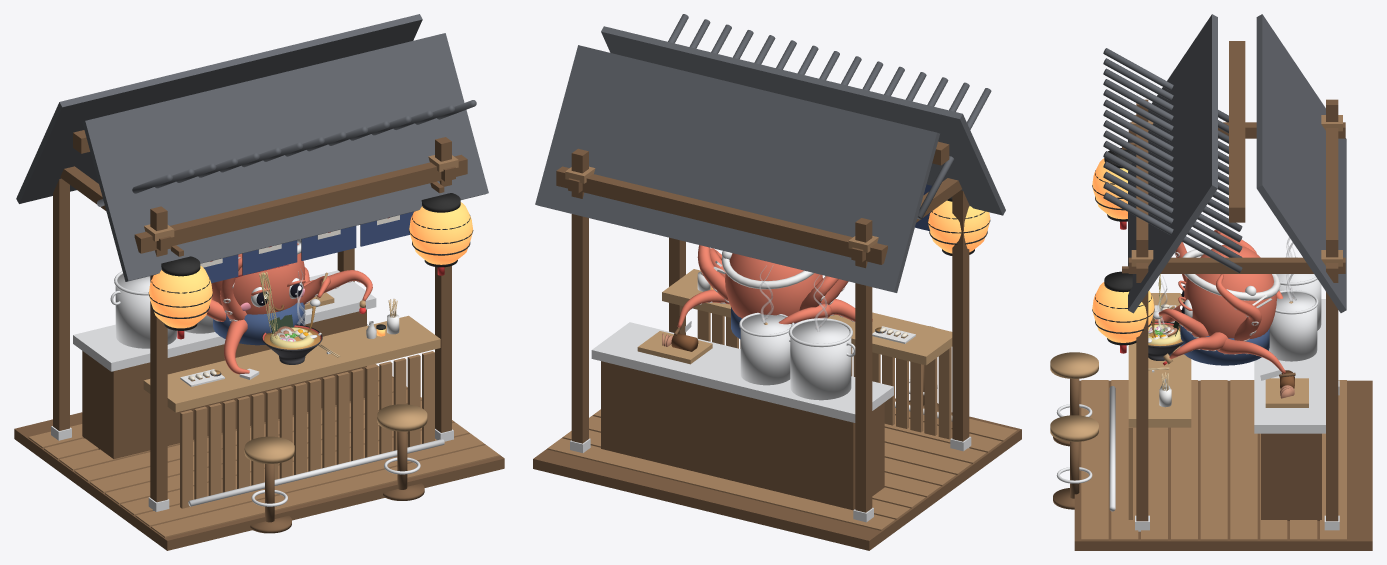
Rendered from octopus_ramen_booth.glb.
3 renders of one model, left to right at view 1: azimuth 30°, elevation 25°; view 2: azimuth 150°, elevation 25°; view 3: azimuth 270°, elevation 25°, orthographic. The views are drawn at different scales.
Visible parts, largest first — view 1: Roof_Slope_Front, Roof_Slope_Back, Prep_Table_Under, Counter_Top, FloorDeck, Beam_Front, FloorBoard_0, Prep_Table, Post_-1.18_0.95, Post_-1.18_-0.45, FloorBoard_1, Post_1.18_-0.45 (+44 smaller); view 2: Roof_Slope_Back, Prep_Table_Under, Roof_Slope_Front, FloorDeck, Prep_Table, Beam_Back, FloorBoard_8, Post_1.18_0.95, Post_-1.18_0.95, StockPot_Broth, Post_-1.18_-0.45, Counter_Top (+23 smaller); view 3: Roof_Slope_Back, Roof_Slope_Front, FloorDeck, Prep_Table_Under, FloorBoard_4, FloorBoard_5, Prep_Table, FloorBoard_0, Counter_Top, Octopus_Head, FloorBoard_3, Post_1.18_0.95 (+43 smaller).
Boxes of the visible parts, <box> form: Roof_Slope_Front: <box>82,33,488,281</box>; Roof_Slope_Back: <box>16,14,422,203</box>; Prep_Table_Under: <box>82,309,366,458</box>; Counter_Top: <box>143,315,440,412</box>; FloorDeck: <box>14,366,504,550</box>; Beam_Front: <box>134,154,467,253</box>; FloorBoard_0: <box>151,445,499,537</box>; Prep_Table: <box>73,270,376,371</box>; Post_-1.18_0.95: <box>53,178,69,430</box>; Post_-1.18_-0.45: <box>150,206,167,502</box>; FloorBoard_1: <box>135,433,484,526</box>; Post_1.18_-0.45: <box>435,137,451,432</box>; Roof_Slope_Back: <box>535,45,939,292</box>; Prep_Table_Under: <box>601,361,884,510</box>; Roof_Slope_Front: <box>601,26,1005,215</box>; FloorDeck: <box>533,398,1021,550</box>; Prep_Table: <box>591,322,893,422</box>; Beam_Back: <box>556,166,887,264</box>; FloorBoard_8: <box>547,438,895,530</box>; Post_1.18_0.95: <box>571,148,588,443</box>; Post_-1.18_0.95: <box>855,218,872,512</box>; StockPot_Broth: <box>790,320,851,400</box>; Post_-1.18_-0.45: <box>952,190,969,441</box>; Counter_Top: <box>662,269,952,365</box>; Roof_Slope_Back: <box>1256,14,1346,312</box>; Roof_Slope_Front: <box>1128,14,1217,313</box>; FloorDeck: <box>1074,380,1372,550</box>; Prep_Table_Under: <box>1261,433,1321,520</box>; FloorBoard_4: <box>1200,380,1227,540</box>; FloorBoard_5: <box>1230,380,1257,540</box>; Prep_Table: <box>1254,299,1325,433</box>; FloorBoard_0: <box>1081,380,1108,540</box>; Counter_Top: <box>1128,293,1191,427</box>; Octopus_Head: <box>1184,244,1276,338</box>; FloorBoard_3: <box>1171,380,1197,540</box>; Post_1.18_0.95: <box>1326,235,1338,521</box>.
Size of the model in its own units: 2.99 by 3.02 by 2.38.
